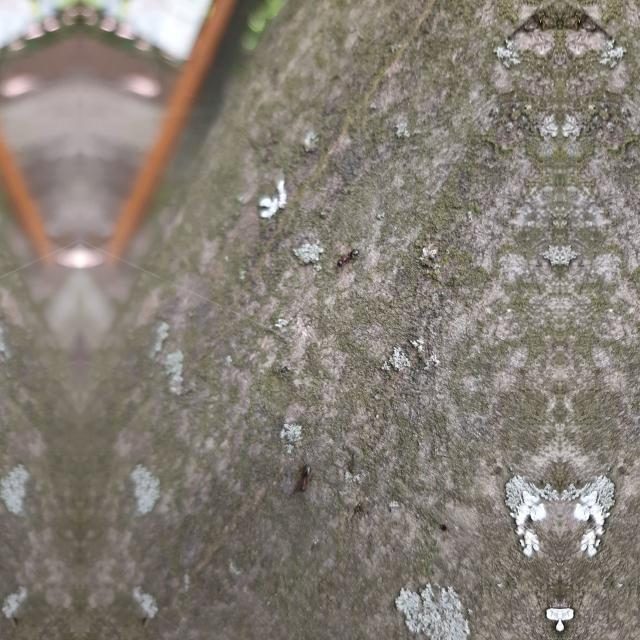Dolichoderus: (333, 240, 363, 272), (294, 456, 314, 496)
